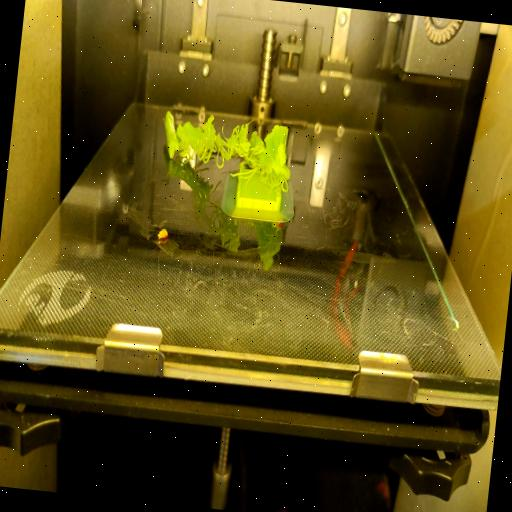spaghetti: (173, 110, 298, 182)
